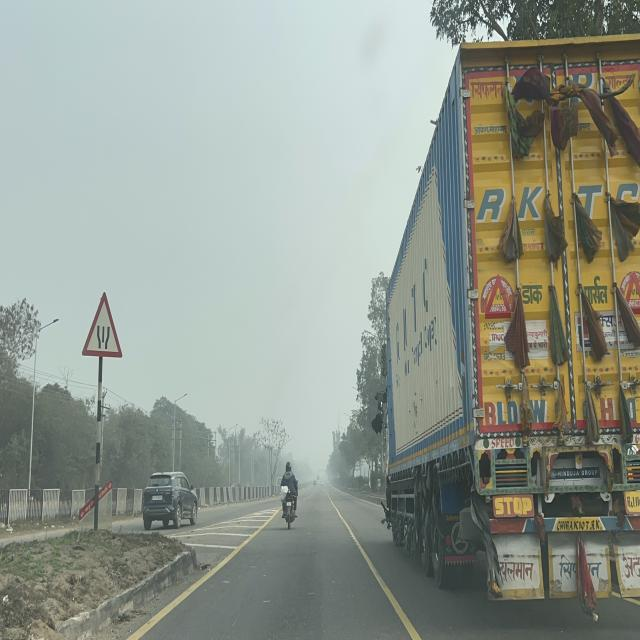ROAD_WIDENS_AHEAD: (81, 292, 122, 358)
